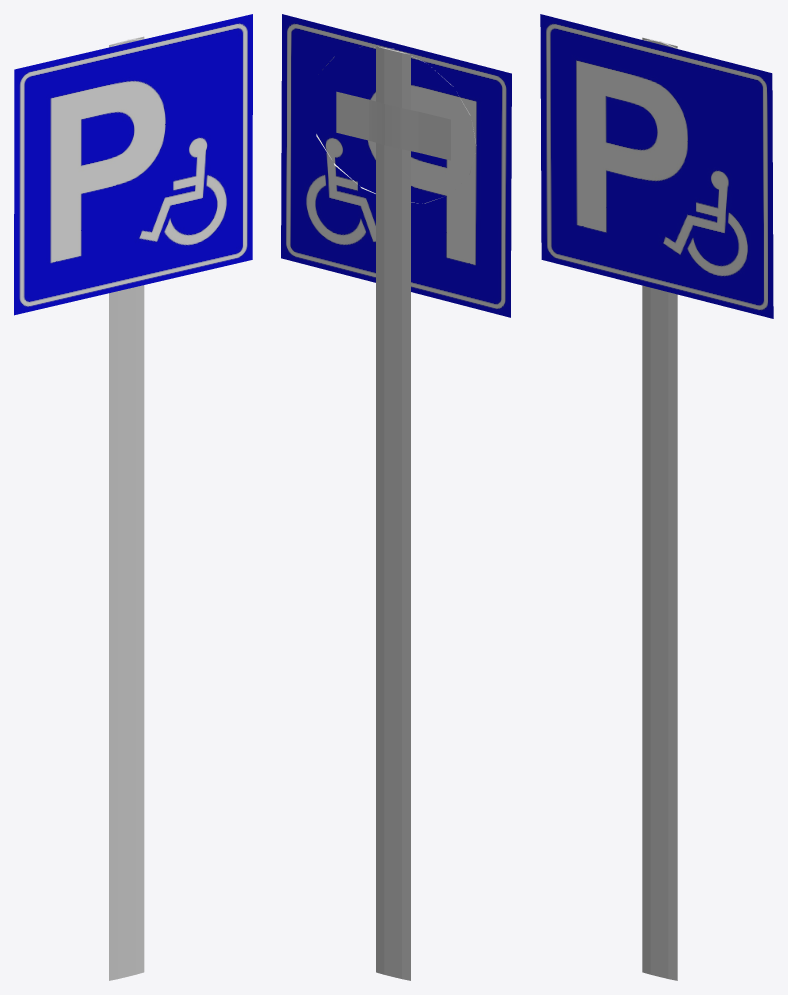
Rendered from engellipark.dae.
The picture shows the model from 3 angles, left to right: view 1: azimuth 30°, elevation 25°; view 2: azimuth 150°, elevation 25°; view 3: azimuth 330°, elevation 25°; orthographic projection.
Parts seen in each view (by area): view 1: Plane, Sign_Circle.005; view 2: Plane, Sign_Circle.005; view 3: Plane, Sign_Circle.005.
Part boxes in pixels (x1,y1,x2,y2): Plane: (14,14,252,315); Sign_Circle.005: (109,36,145,980); Plane: (281,14,511,317); Sign_Circle.005: (316,46,476,980); Plane: (540,14,773,318); Sign_Circle.005: (642,37,678,980).
Bounding box in the file's own units: 0.5948 × 0.032 × 2.26.
Materials: 3 (1 with a texture image).
